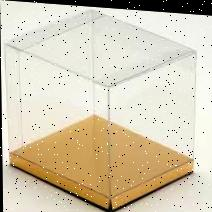cube: (3, 4, 196, 212)
